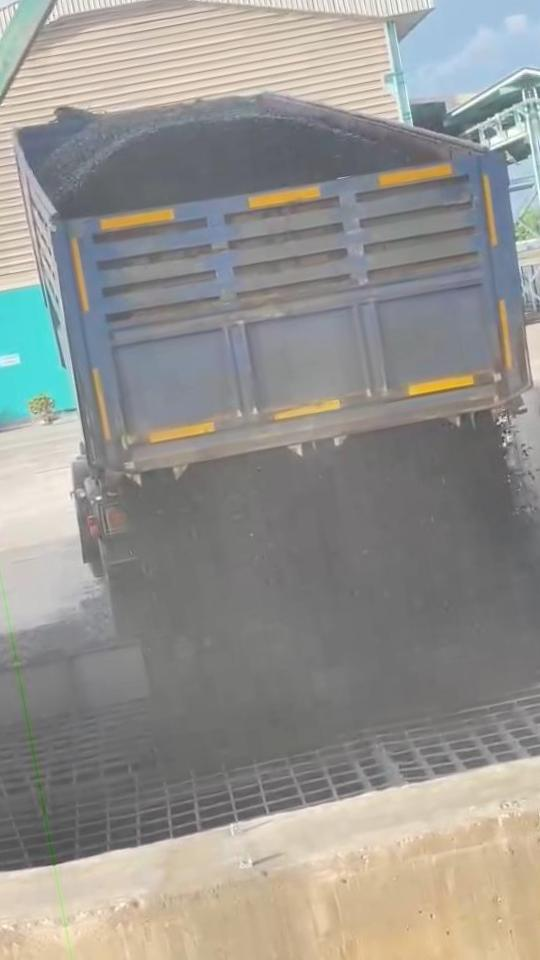gravel: (150, 412, 540, 709), (20, 95, 451, 217), (14, 591, 118, 666)
